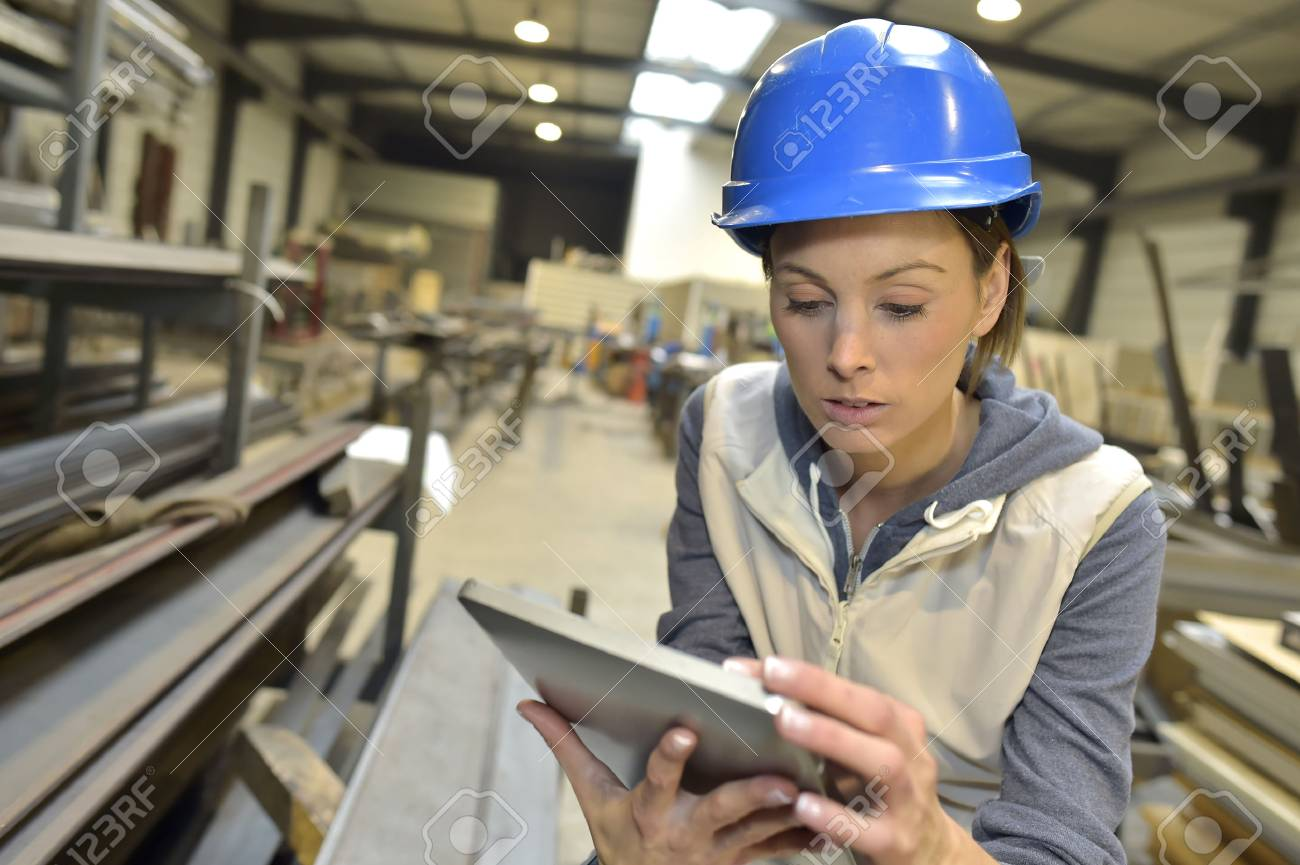casco: (708, 15, 1046, 263)
